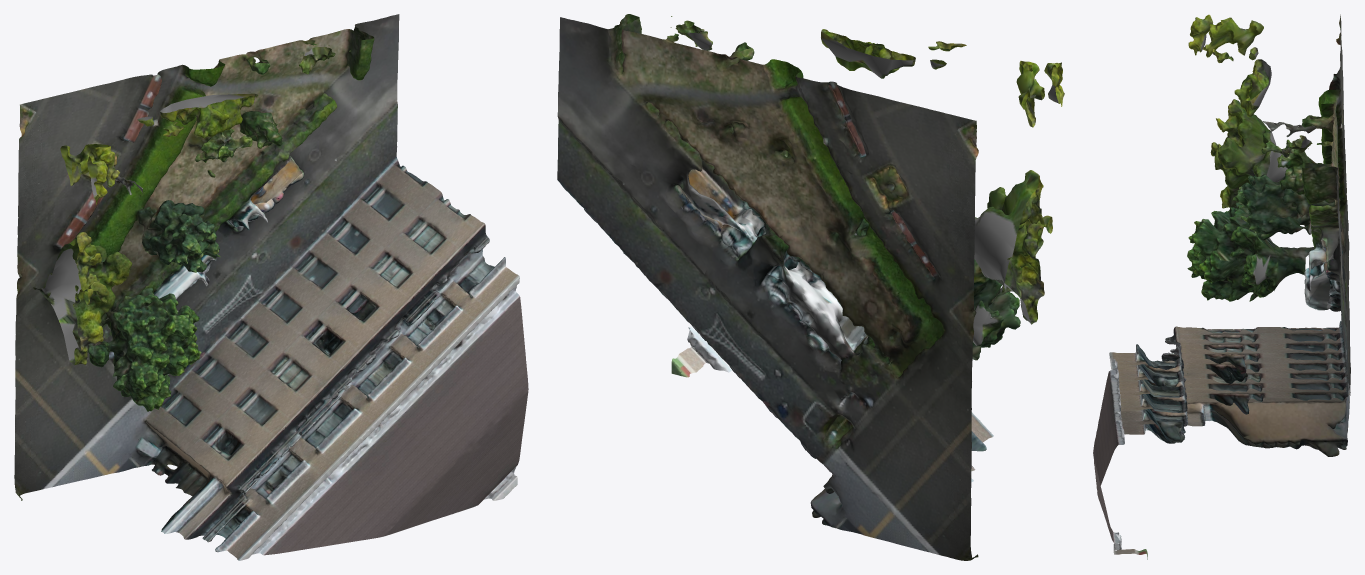
The model's file is Tile_+012_+020.fbx.
The picture shows the model from 3 angles, left to right: view 1: azimuth 30°, elevation 25°; view 2: azimuth 150°, elevation 25°; view 3: azimuth 270°, elevation 25°; orthographic projection. The views are drawn at different scales.
Parts seen in each view (by area): view 1: DefaultName; view 2: DefaultName; view 3: DefaultName.
Boxes of the visible parts, <box> form: DefaultName: <box>14,14,528,560</box>; DefaultName: <box>557,14,1064,560</box>; DefaultName: <box>1093,14,1350,559</box>.
Bounding box in the file's own units: 22.54 × 22.54 × 14.12.
